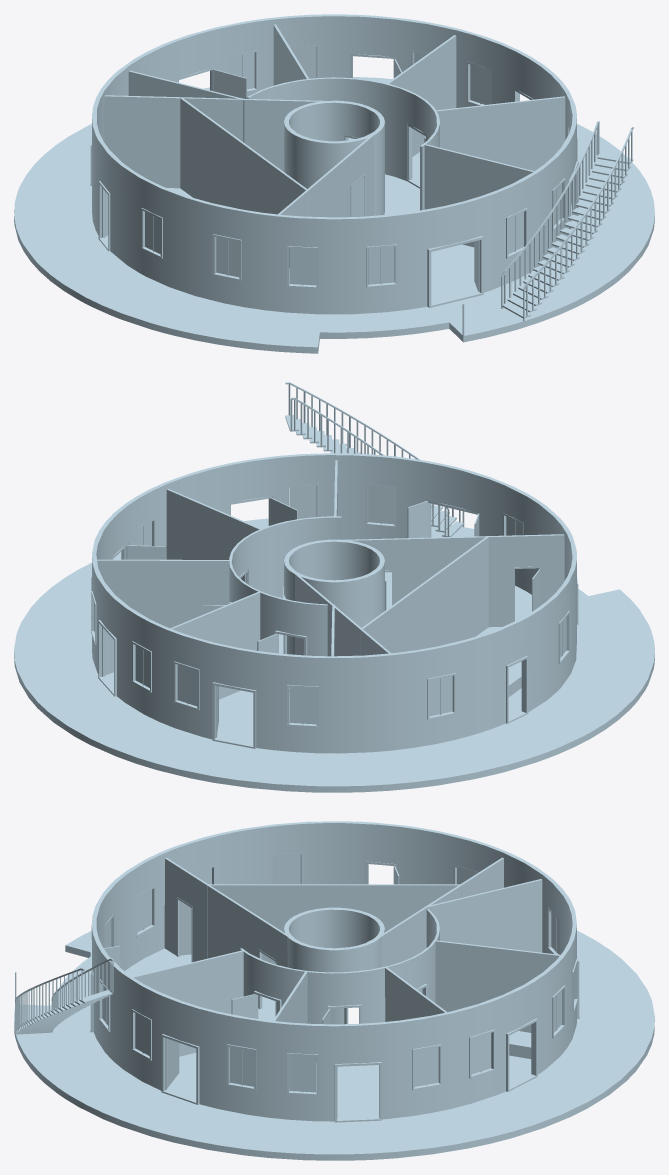
File: tower_floor_lod1.glb
3 renders of one model, top to bottom at view 1: azimuth 30°, elevation 25°; view 2: azimuth 150°, elevation 25°; view 3: azimuth 270°, elevation 25°, orthographic.
Parts seen in each view (by area): view 1: Facade 0, Slab 0, Radial demise wall (×5), Core tangent wall, Bedroom-bath wall, Elevator shell 0, Corridor wall 0, Window glass (×8), Living-bedroom separator (×3), Door leaf, Separator door leaf (bath); view 2: Facade 0, Slab 0, Radial demise wall (×3), Bedroom-bath wall, Living-bedroom separator (×3), Corridor wall 0, Elevator shell 0, Window glass (×5), Core tangent wall, Main door leaf, Door leaf; view 3: Facade 0, Slab 0, Radial demise wall (×5), Corridor wall 0, Bedroom-bath wall, Living-bedroom separator (×4), Elevator shell 0, Window glass (×7), Core tangent wall, Door leaf (×2), Separator door leaf (bed), Bed (single).
Boxes of the visible parts, bbox=[...] form: Facade 0: bbox=[92, 14, 576, 314]; Slab 0: bbox=[14, 77, 654, 353]; Radial demise wall (×5): bbox=[128, 24, 565, 247]; Core tangent wall: bbox=[104, 95, 338, 188]; Bedroom-bath wall: bbox=[180, 98, 308, 267]; Elevator shell 0: bbox=[284, 100, 384, 215]; Corridor wall 0: bbox=[246, 77, 439, 210]; Window glass (×8): bbox=[145, 47, 523, 285]; Living-bedroom separator (×3): bbox=[295, 130, 378, 217]; Door leaf: bbox=[211, 69, 246, 98]; Separator door leaf (bath): bbox=[352, 177, 365, 216]; Facade 0: bbox=[92, 453, 576, 753]; Slab 0: bbox=[14, 518, 654, 792]; Radial demise wall (×3): bbox=[97, 489, 262, 699]; Bedroom-bath wall: bbox=[360, 537, 488, 655]; Living-bedroom separator (×3): bbox=[394, 534, 564, 627]; Corridor wall 0: bbox=[229, 516, 341, 656]; Elevator shell 0: bbox=[284, 539, 384, 654]; Window glass (×5): bbox=[177, 485, 452, 724]; Core tangent wall: bbox=[290, 569, 390, 656]; Main door leaf: bbox=[407, 501, 430, 537]; Door leaf: bbox=[124, 545, 166, 559]; Facade 0: bbox=[91, 821, 576, 1121]; Slab 0: bbox=[14, 930, 654, 1160]; Radial demise wall (×5): bbox=[132, 879, 560, 1088]; Corridor wall 0: bbox=[240, 909, 439, 1062]; Bedroom-bath wall: bbox=[207, 884, 461, 964]; Living-bedroom separator (×4): bbox=[164, 857, 278, 1007]; Elevator shell 0: bbox=[284, 907, 384, 1024]; Window glass (×7): bbox=[135, 854, 491, 1092]; Core tangent wall: bbox=[373, 857, 503, 993]; Door leaf (×2): bbox=[165, 994, 257, 1089]; Separator door leaf (bed): bbox=[177, 900, 191, 955]; Bed (single): bbox=[509, 1031, 531, 1058].
Bounding box in the file's own units: 19.99 × 4.84 × 19.99.
